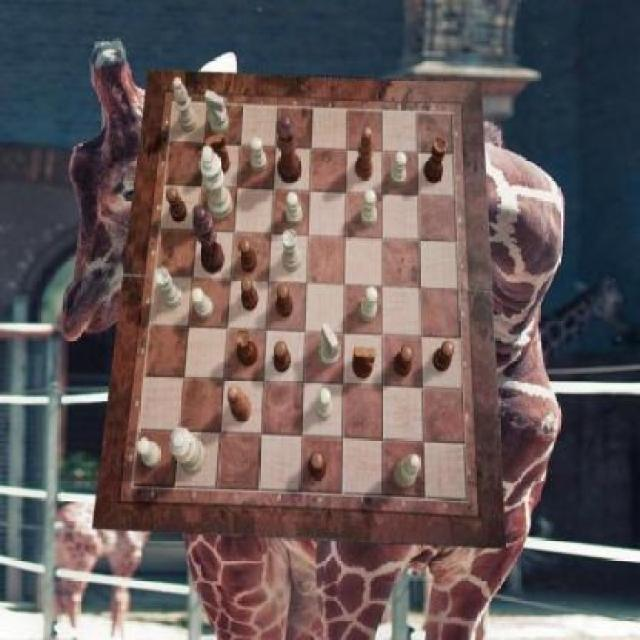bishop: (355, 128, 373, 180), (228, 385, 252, 422)
black-bishop: (193, 207, 224, 276)
black-king: (204, 131, 230, 173), (354, 348, 377, 380)
black-knight: (432, 340, 455, 372), (166, 188, 187, 222), (394, 345, 414, 377), (242, 275, 259, 310), (277, 283, 294, 318), (239, 238, 256, 272), (274, 341, 291, 374), (308, 452, 327, 480)
black-pawn: (277, 117, 303, 185)
black-queen: (424, 137, 448, 183), (236, 329, 258, 367)
black-rook: (174, 77, 198, 133), (394, 454, 420, 488)
white-bishop: (200, 145, 234, 219)
white-king: (206, 91, 231, 136), (318, 323, 339, 365)
white-knight: (137, 437, 161, 468), (191, 288, 213, 320), (360, 189, 377, 227), (360, 286, 378, 321), (390, 152, 408, 187), (286, 191, 303, 225), (315, 388, 333, 420), (251, 137, 267, 171)
white-pawn: (169, 428, 206, 474)
white-queen: (154, 266, 183, 309), (283, 229, 303, 272)
